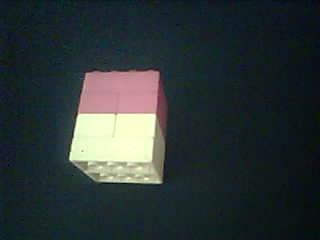lego: (69, 70, 166, 184)
